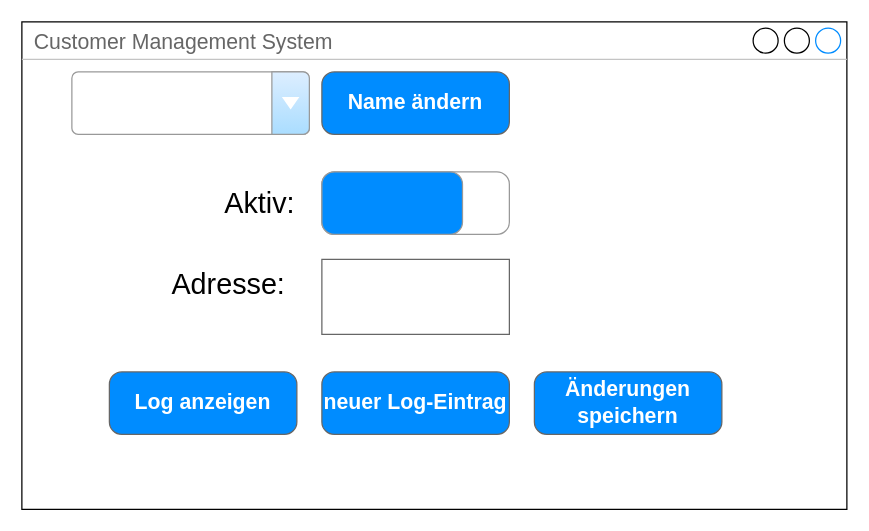
Image size: 869x531. Some labels were removed from this diagram. The centre of each missing label's shape, as x and y in pixels:
Bleichenweg 24 Zürich: [415,296]
Customer 1: [190,102]
ON: [415,202]
